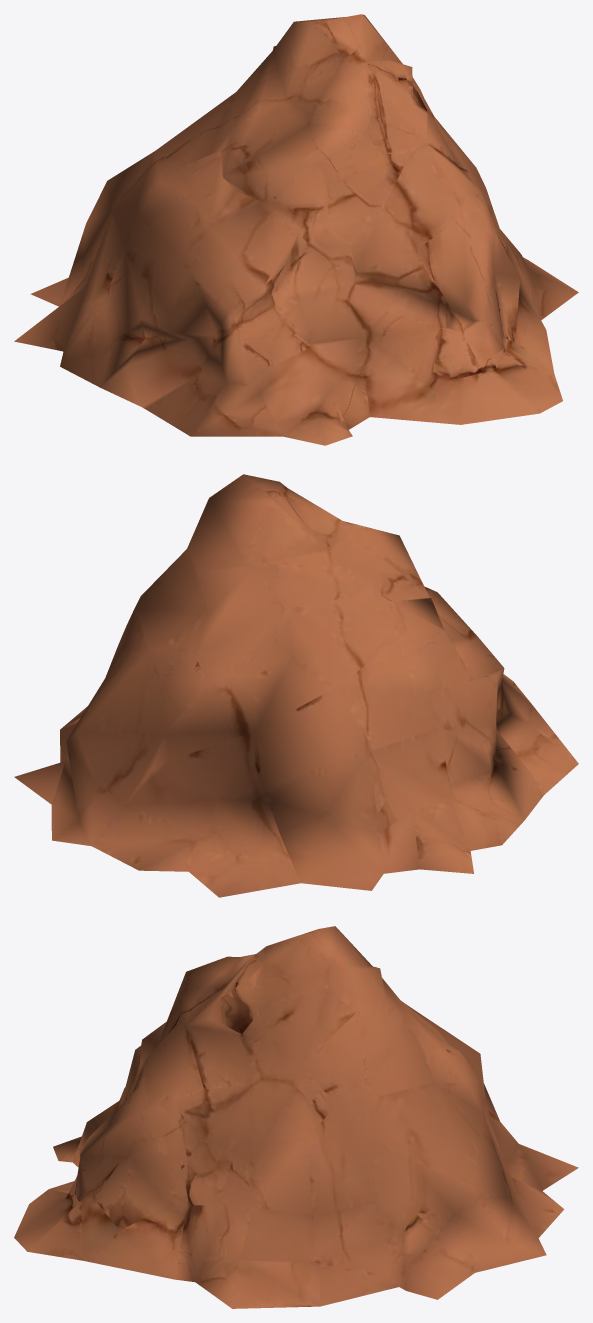
File: l_rock_mars1.glb
The picture shows the model from 3 angles, top to bottom: view 1: azimuth 30°, elevation 25°; view 2: azimuth 150°, elevation 25°; view 3: azimuth 270°, elevation 25°; orthographic projection. The views are drawn at different scales.
Bounding box in the file's own units: 0.8789 × 0.5264 × 0.9492.
1 material, 1 textured.
